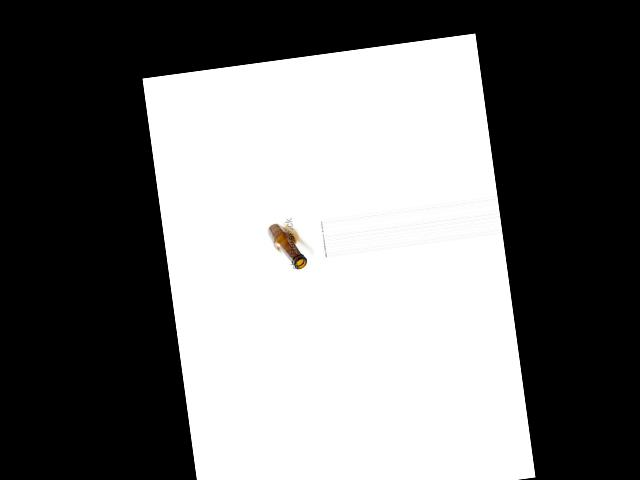beer: (267, 219, 308, 272)
